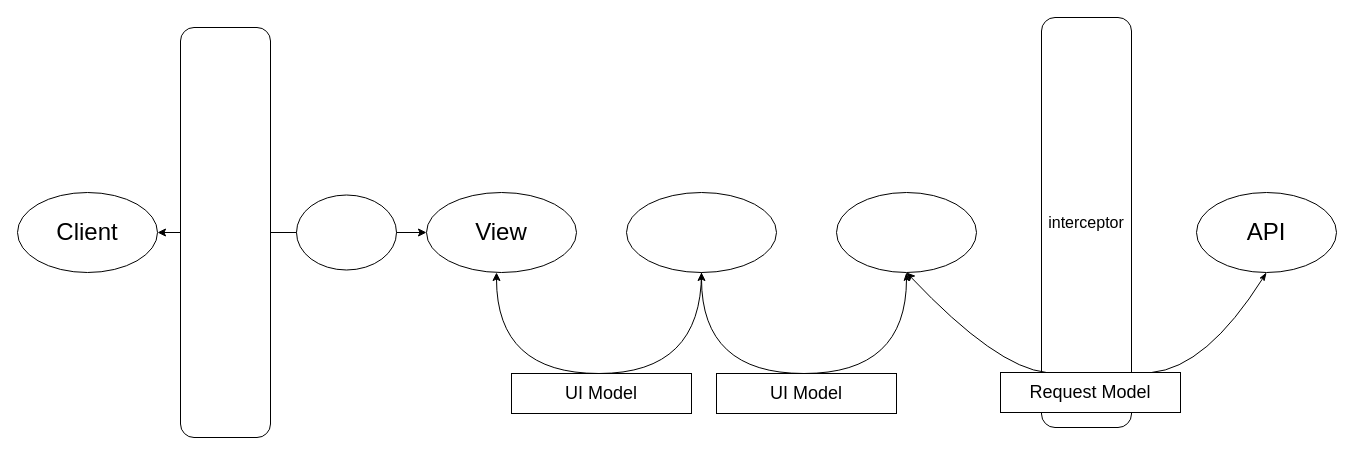
Some shapes in this 1354 by 455 pixel diagram are drawn without their labels. Each missing label, with the centre of its shape:
guard: [225,232]
Repository: [906,232]
Route: [346,232]
Service: [701,232]
